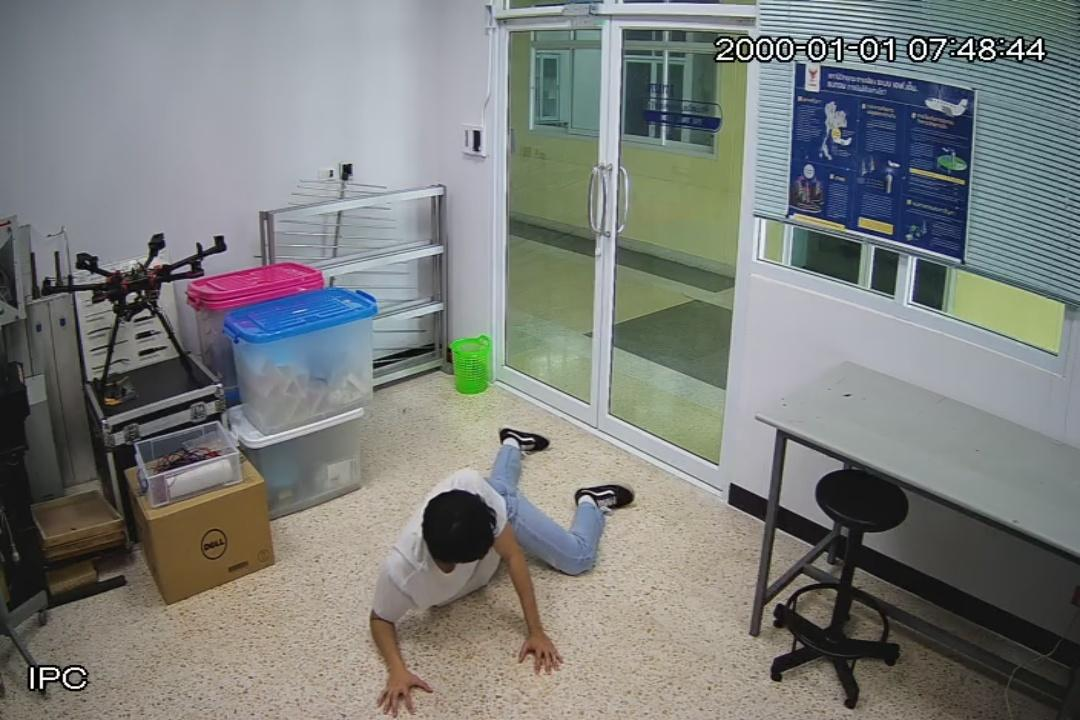fall: (366, 416, 642, 720)
